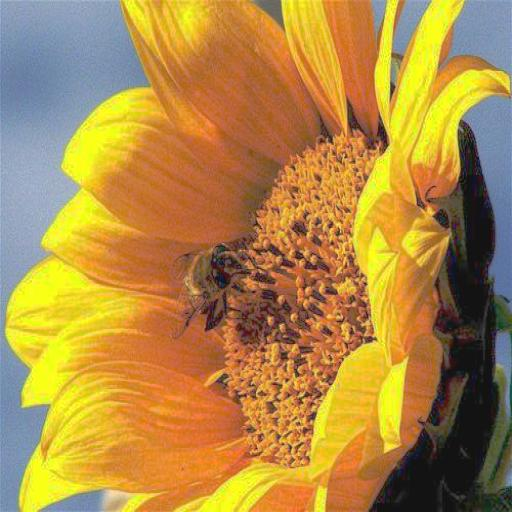sunflower: (2, 0, 491, 512)
